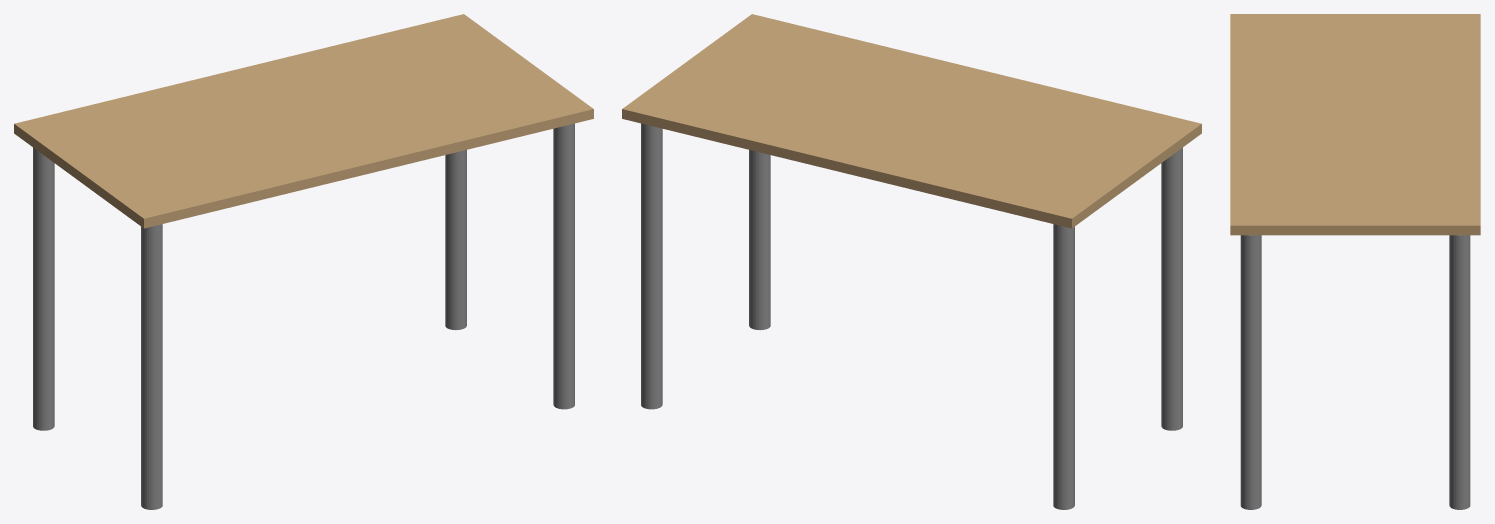
Rendered from desk.glb.
The picture shows the model from 3 angles, left to right: view 1: azimuth 30°, elevation 25°; view 2: azimuth 150°, elevation 25°; view 3: azimuth 270°, elevation 25°; orthographic projection. The views are drawn at different scales.
Parts seen in each view (by area): view 1: Desktop, Leg_1, Leg_3, Leg_2, Leg_4; view 2: Desktop, Leg_2, Leg_4, Leg_1, Leg_3; view 3: Desktop, Leg_3, Leg_4.
Boxes of the visible parts, x1,y1,x2,y2 form: Desktop: (14, 14, 593, 228); Leg_1: (141, 224, 162, 509); Leg_3: (553, 123, 574, 409); Leg_2: (33, 147, 54, 430); Leg_4: (445, 150, 466, 330); Desktop: (622, 14, 1201, 228); Leg_2: (1053, 224, 1074, 509); Leg_4: (641, 123, 662, 409); Leg_1: (1161, 147, 1182, 430); Leg_3: (749, 150, 770, 330); Desktop: (1230, 14, 1480, 235); Leg_3: (1240, 235, 1261, 509); Leg_4: (1449, 235, 1470, 509).
Size of the model in its own units: 1.2 by 0.7625 by 0.6.
